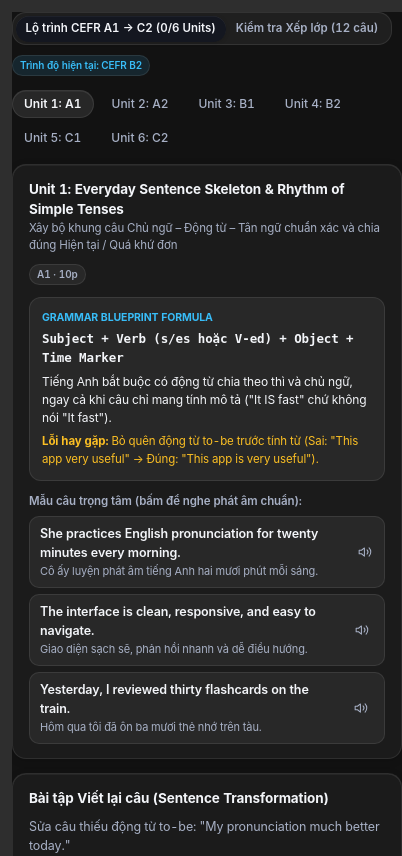
Test case: T-English UI Component & State Persistence Flows › keeps Placement Test submit button disabled until all 12 questions are answered
Click the button "Kiểm tra Xếp lớp (12 câu)" at (307, 28), box [226,16,388,42]
(page scrolled)
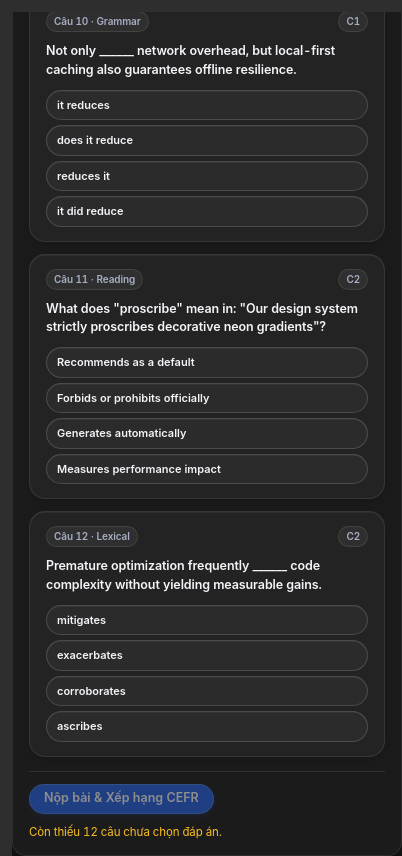
Result: the button "Nộp bài & Xếp hạng CEFR" is disabled at [29,784,214,814]
